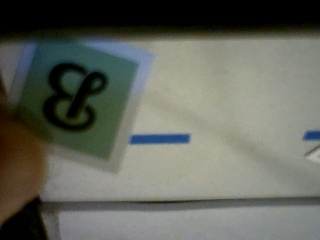B: (12, 37, 140, 159)
